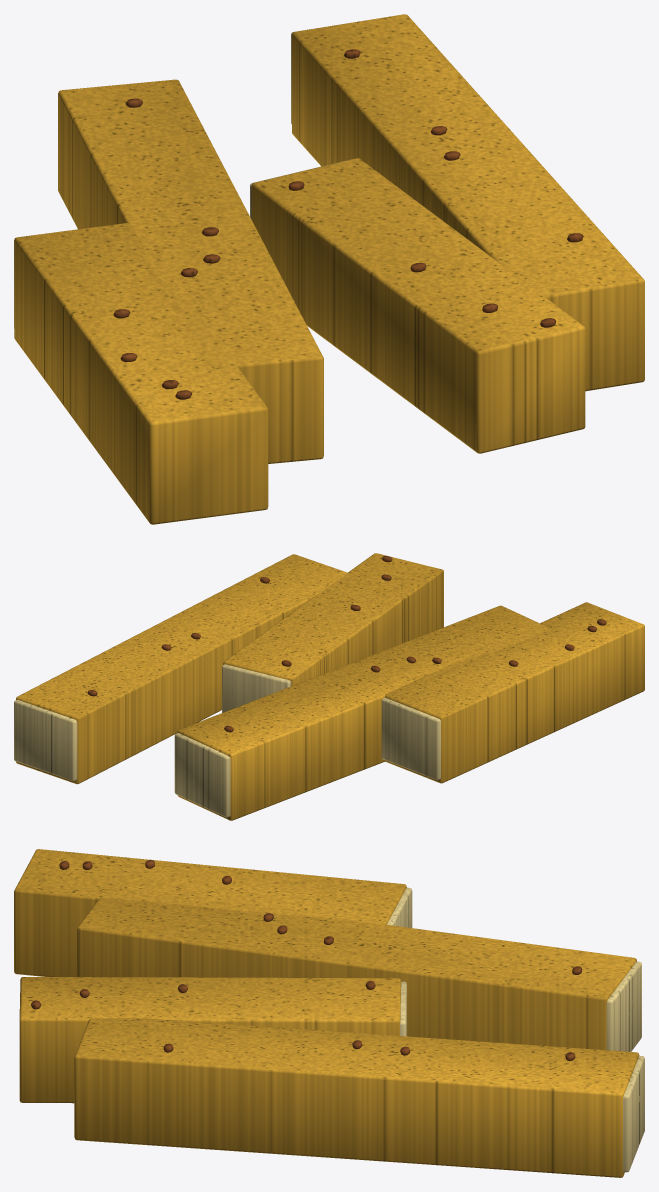
The model's file is food-04-half.glb.
3 views of the same model, one above another, from view 1: azimuth 30°, elevation 25°; view 2: azimuth 150°, elevation 25°; view 3: azimuth 270°, elevation 25° (orthographic). The views are drawn at different scales.
Parts seen in each view (by area): view 1: Food; view 2: Food; view 3: Food.
Part boxes in pixels (<box>): Food: <box>14,14,644,524</box>; Food: <box>14,553,644,820</box>; Food: <box>14,849,644,1177</box>.
Size of the model in its own units: 0.3974 by 0.0681 by 0.4307.
1 material, 1 textured.
